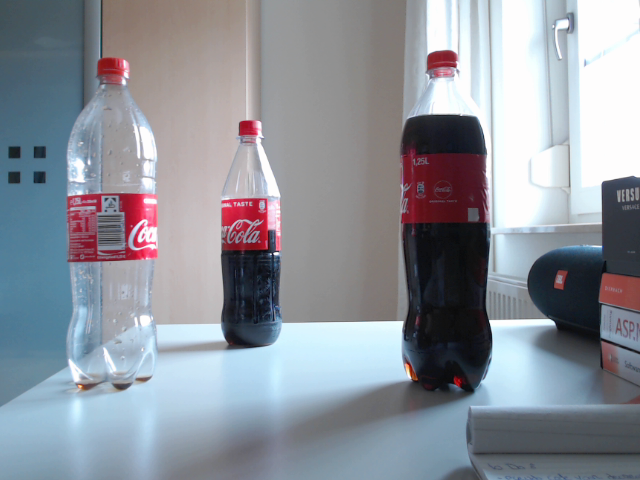bottle: (399, 48, 494, 395), (65, 55, 158, 392), (219, 119, 281, 349)
